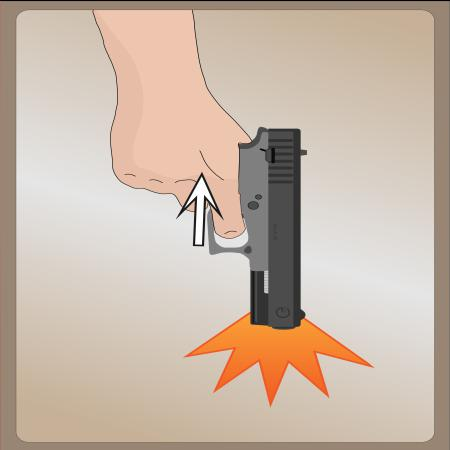Pistol: (205, 125, 315, 330)
